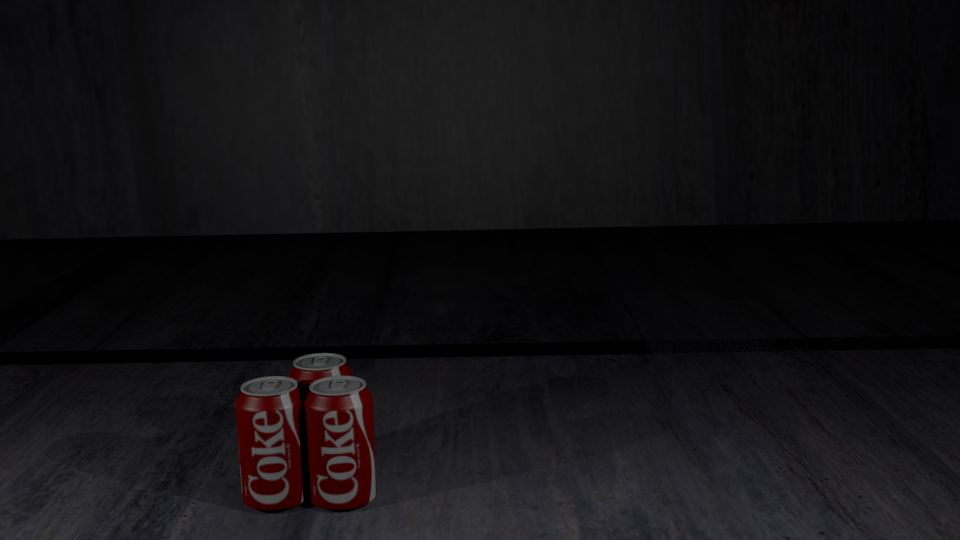cola_can: (235, 376, 306, 506), (304, 376, 374, 505), (288, 353, 351, 475)
